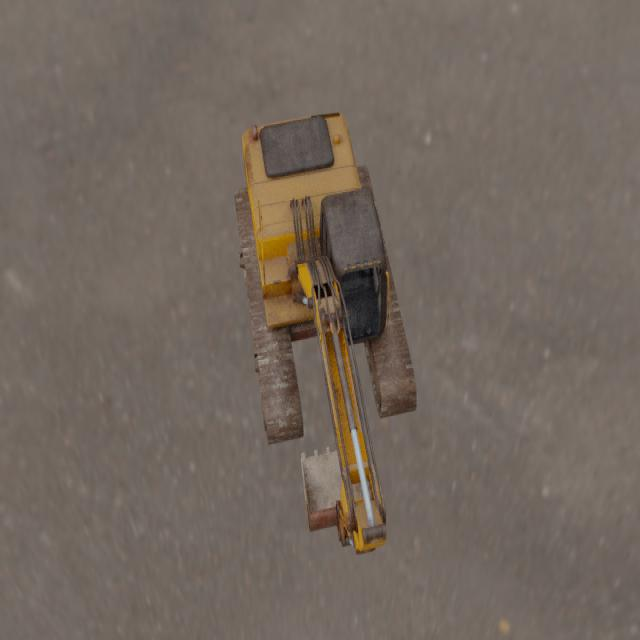excavator: (233, 112, 417, 555)
